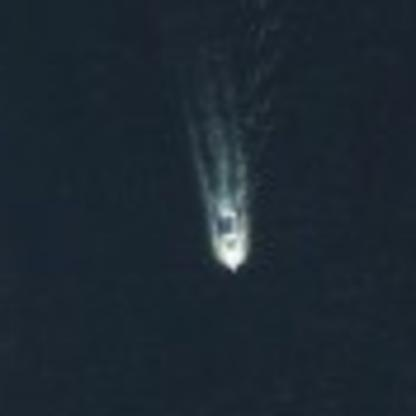ship: (199, 188, 257, 276)
